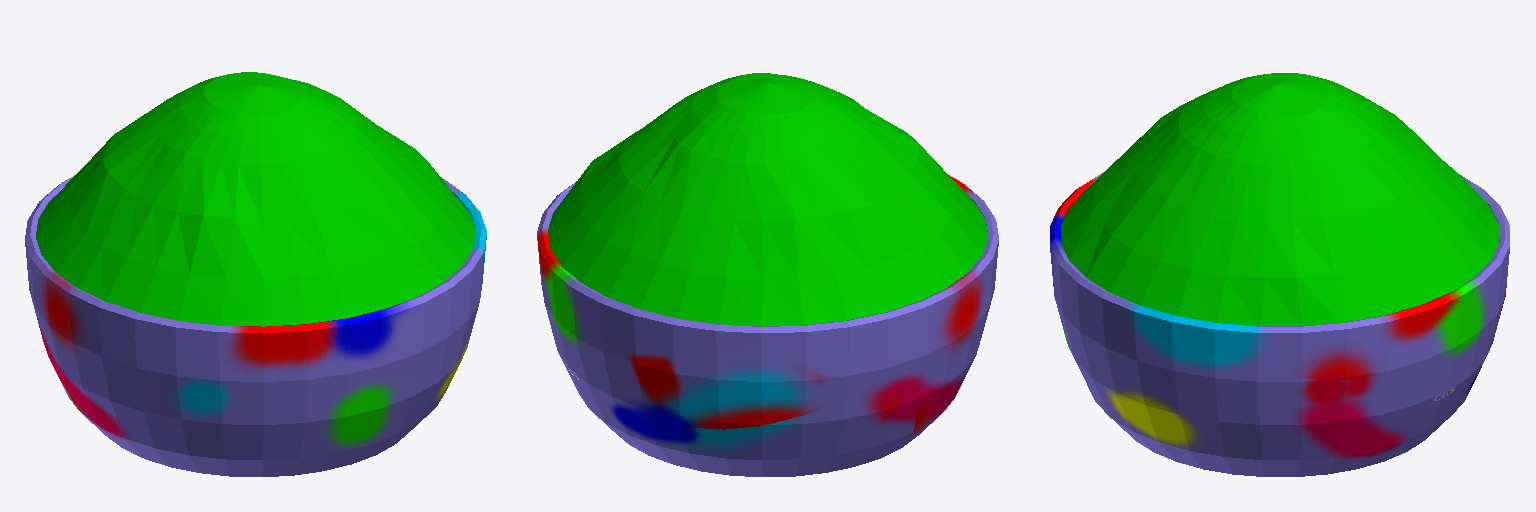
3 views of the same model, side by side, from view 1: azimuth 30°, elevation 25°; view 2: azimuth 150°, elevation 25°; view 3: azimuth 270°, elevation 25° (orthographic).
Visible parts, largest first — view 1: Sphere.003_Sphere.009; view 2: Sphere.003_Sphere.009; view 3: Sphere.003_Sphere.009.
Part boxes in pixels (x1,y1,x2,y2): Sphere.003_Sphere.009: (25,72,486,476); Sphere.003_Sphere.009: (537,73,998,476); Sphere.003_Sphere.009: (1050,73,1509,476).
Size of the model in its own units: 1.99 by 1.64 by 1.99.
Materials: 2 (1 with a texture image).